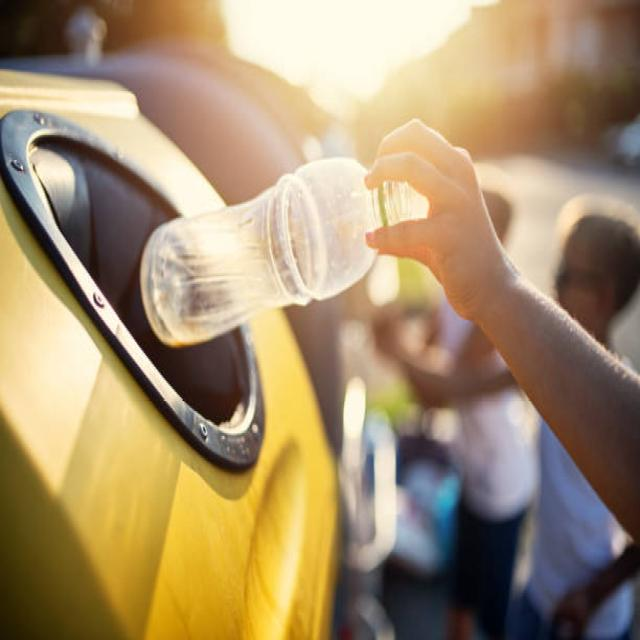plastic: (128, 173, 398, 345)
